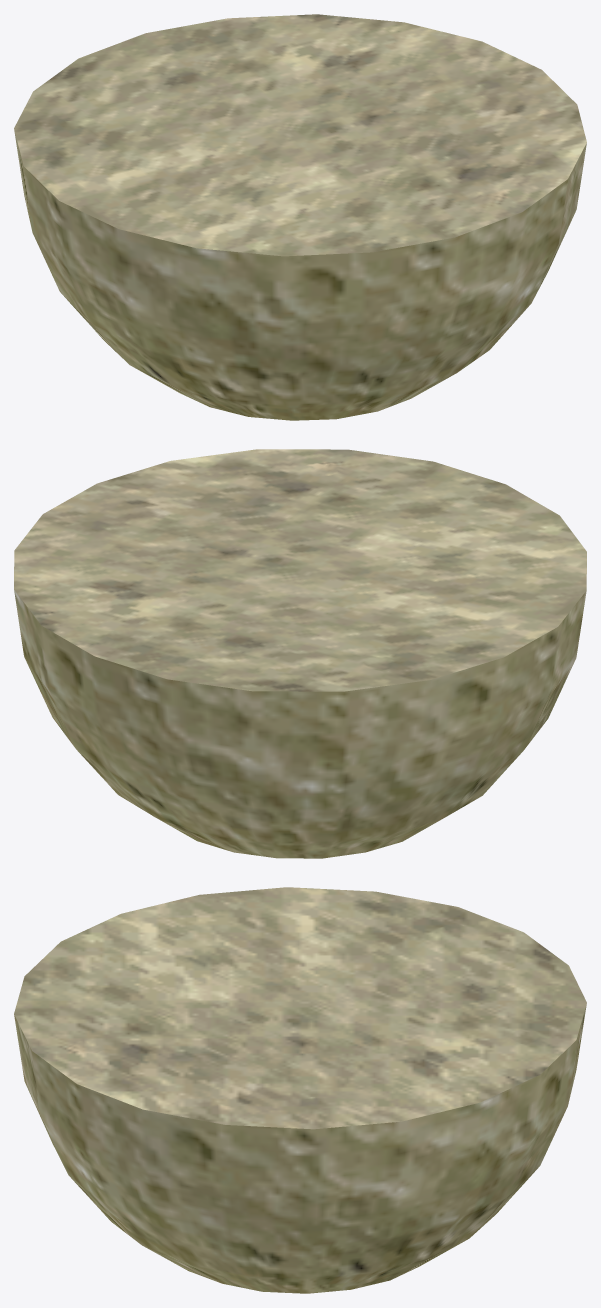
Rendered from o_heya3.glb.
The picture shows the model from 3 angles, top to bottom: view 1: azimuth 30°, elevation 25°; view 2: azimuth 150°, elevation 25°; view 3: azimuth 270°, elevation 25°; orthographic projection.
Visible parts, largest first — view 1: o_heya3; view 2: o_heya3; view 3: o_heya3.
Boxes of the visible parts, bbox=[...] form: o_heya3: bbox=[14, 14, 586, 420]; o_heya3: bbox=[14, 449, 586, 858]; o_heya3: bbox=[14, 887, 586, 1293].
Size of the model in its own units: 600 by 302 by 600.
Materials: 2 (2 with a texture image).
